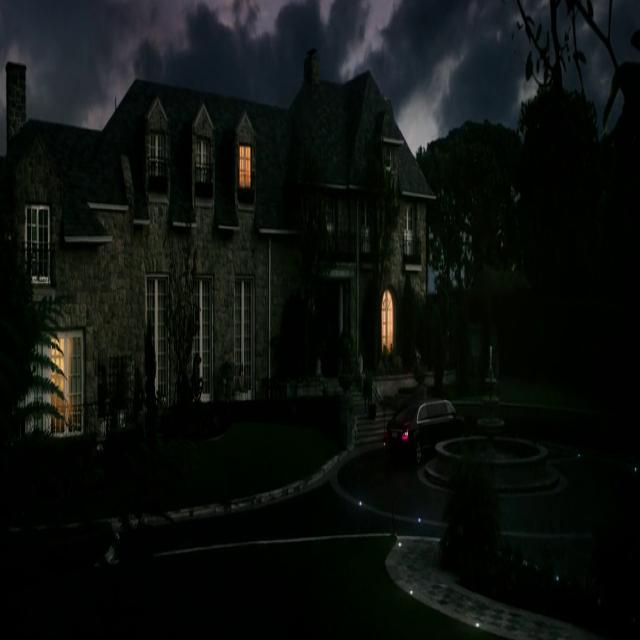car: (391, 369, 449, 470)
